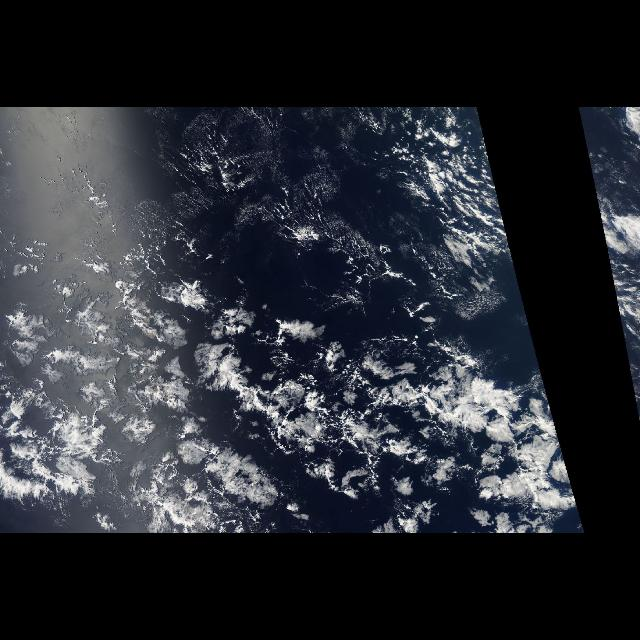Fish: (1, 323, 555, 533)
Flower: (1, 260, 453, 518)
Sugar: (143, 159, 384, 277)
